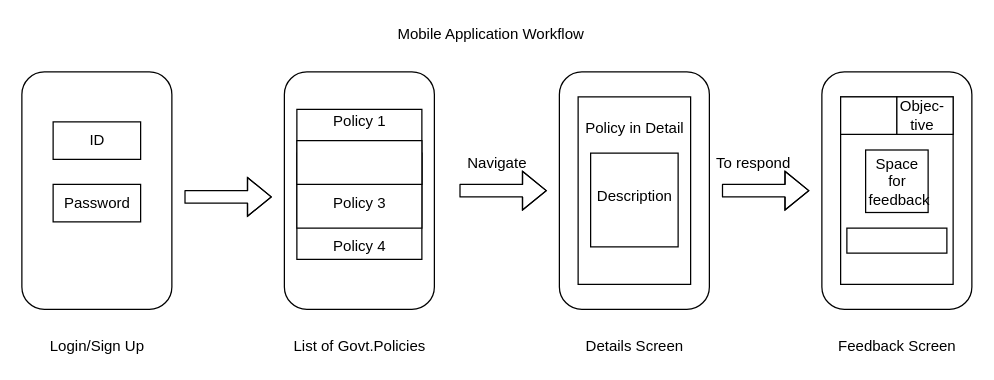
The diagram is 994 pixels wide and 380 high, and some of its shapes have lost their labels. The shapes that lost their labels are listed below. From the top down, each one's centre as x and y in pixels, then its label:
pixel 868 115: Subjec -tive
pixel 359 161: Policy 2
pixel 896 240: Submit
